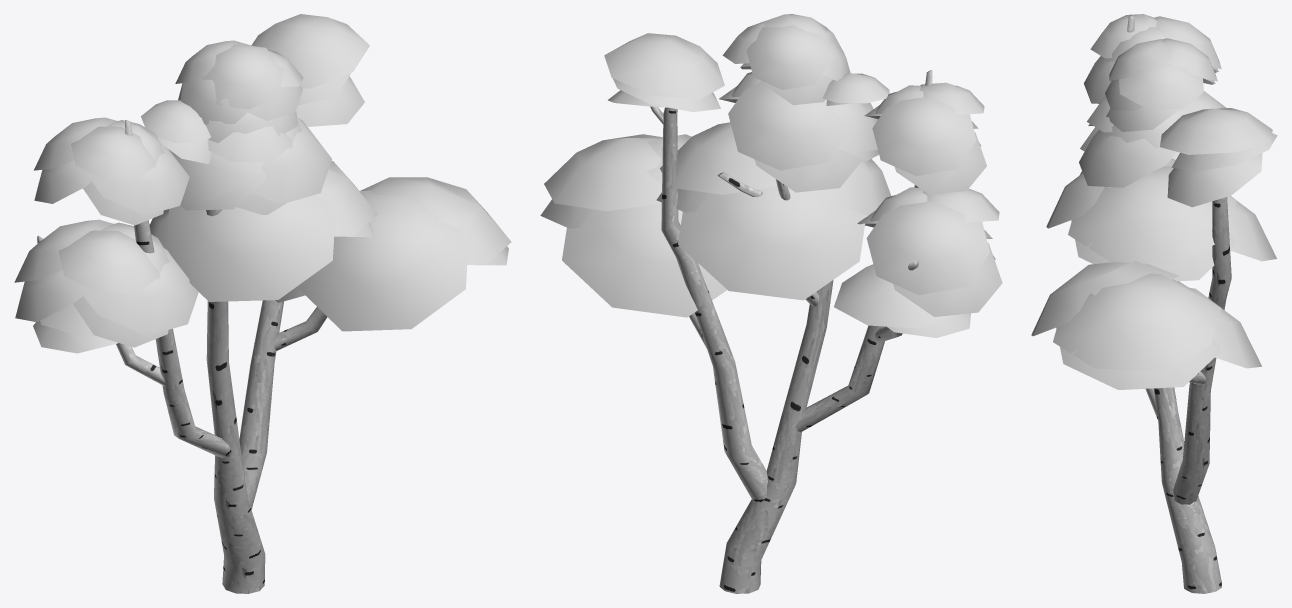
File: Birch_3.glb
3 views of the same model, side by side, from view 1: azimuth 30°, elevation 25°; view 2: azimuth 150°, elevation 25°; view 3: azimuth 270°, elevation 25° (orthographic). The views are drawn at different scales.
Visible parts, largest first — view 1: Birch_3; view 2: Birch_3; view 3: Birch_3.
Boxes of the visible parts, <box> form: Birch_3: <box>14,14,511,593</box>; Birch_3: <box>540,14,1002,593</box>; Birch_3: <box>1031,14,1277,593</box>.
Bounding box in the file's own units: 8.76 × 10.3 × 4.35.
Materials: 2 (1 with a texture image).
